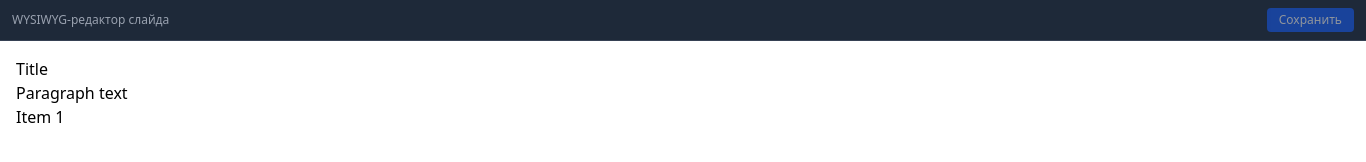
it: SlideTextEditor › shows dirty indicator after input event
Clear the field with test id "slide-editor-content": x=683, y=93 [0,41,1365,145]
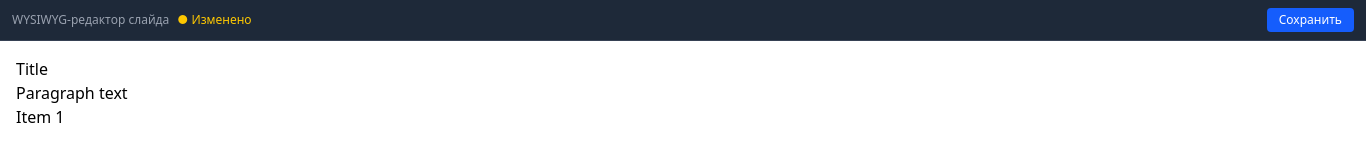
expect the text "● Изменено" is shown: met, box [177,12,252,28]
